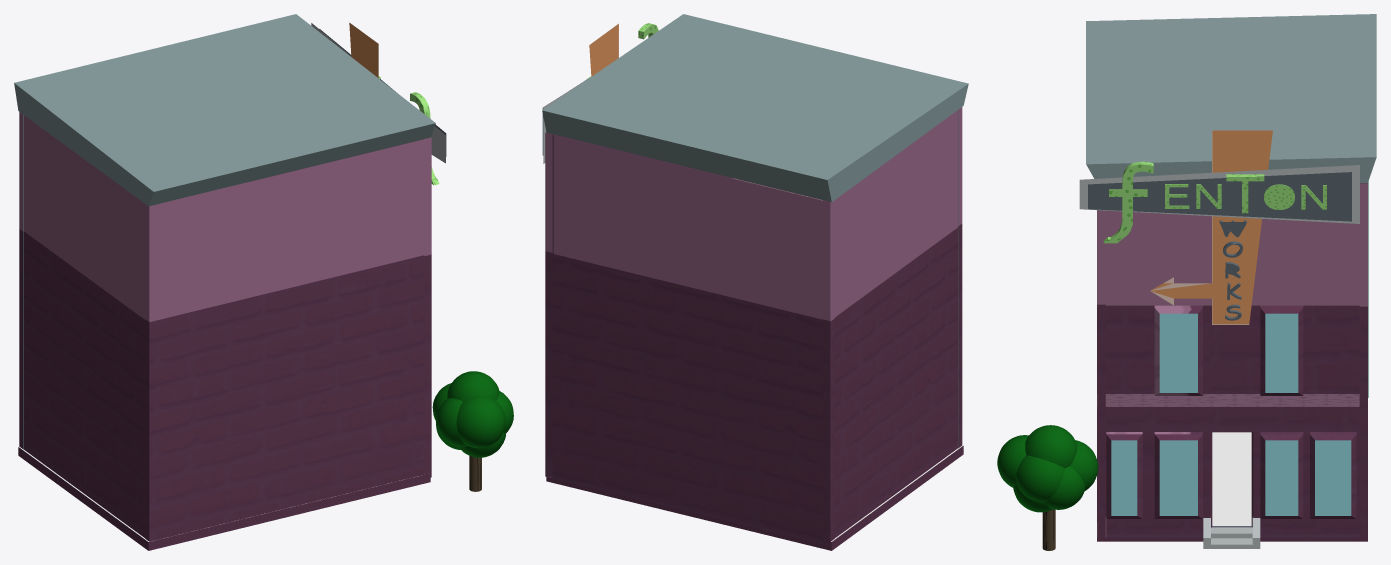
Rendered from fachada.obj.
3 renders of one model, left to right at view 1: azimuth 30°, elevation 25°; view 2: azimuth 150°, elevation 25°; view 3: azimuth 270°, elevation 25°, orthographic. The views are drawn at different scales.
Visible parts, largest first — view 1: pCube8, pCube6, pCube9, polySurface12, pCube7, pCube13, pCube10, pPlane1; view 2: pCube10, pCube6, pCube9, pCube7, pCube13, pCube8, pPlane1; view 3: pCube13, pCube6, pPlane3, pPlane1, polySurface12, pCube7, pCube10, pCube8, pPlane2, typeMesh2, typeMesh1, polySurface4 typeMesh3 (+4 smaller).
Boxes of the visible parts, x1,y1,x2,y2 form: pCube8: (145, 137, 431, 541); pCube6: (14, 14, 435, 206); pCube9: (23, 115, 145, 537); polySurface12: (432, 371, 513, 457); pCube7: (18, 446, 430, 550); pCube13: (424, 137, 431, 477); pCube10: (19, 112, 23, 449); pPlane1: (349, 22, 378, 77); pCube10: (545, 132, 834, 545); pCube6: (542, 14, 968, 202); pCube9: (823, 110, 957, 546); pCube7: (546, 445, 963, 550); pCube13: (545, 133, 552, 478); pCube8: (958, 107, 962, 448); pPlane1: (589, 23, 618, 76); pCube13: (1097, 183, 1367, 537); pCube6: (1086, 14, 1376, 183); pPlane3: (1088, 172, 1351, 221); pPlane1: (1150, 130, 1272, 324); polySurface12: (997, 425, 1098, 512); pCube7: (1097, 432, 1367, 541); pCube10: (1359, 183, 1367, 537); pCube8: (1097, 210, 1105, 537); pPlane2: (1079, 165, 1359, 223); typeMesh2: (1103, 161, 1153, 243); typeMesh1: (1219, 220, 1246, 320); polySurface4 typeMesh3: (1264, 184, 1294, 209).
Size of the model in its own units: 23.81 by 26.9 by 22.4.
18 materials, 18 textured.
